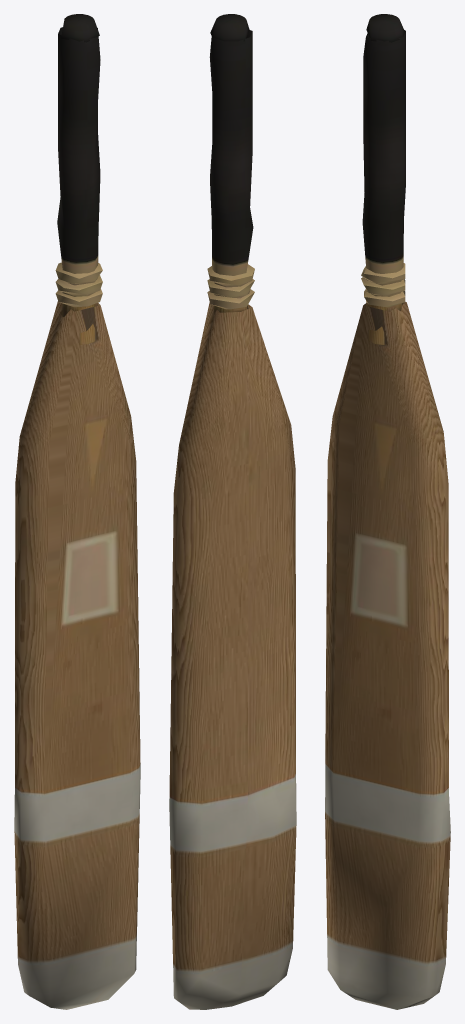
Rendered from cricket-bat.glb.
3 views of the same model, side by side, from view 1: azimuth 30°, elevation 25°; view 2: azimuth 210°, elevation 25°; view 3: azimuth 330°, elevation 25° (orthographic).
Parts seen in each view (by area): view 1: bat; view 2: bat; view 3: bat.
Part boxes in pixels (left/top/right/bottom): bat: left=14, top=14, right=140, bottom=1009; bat: left=169, top=14, right=296, bottom=1009; bat: left=325, top=14, right=450, bottom=1009.
Size of the model in its own units: 0.1083 by 0.8505 by 0.0461.
1 material, 1 textured.
